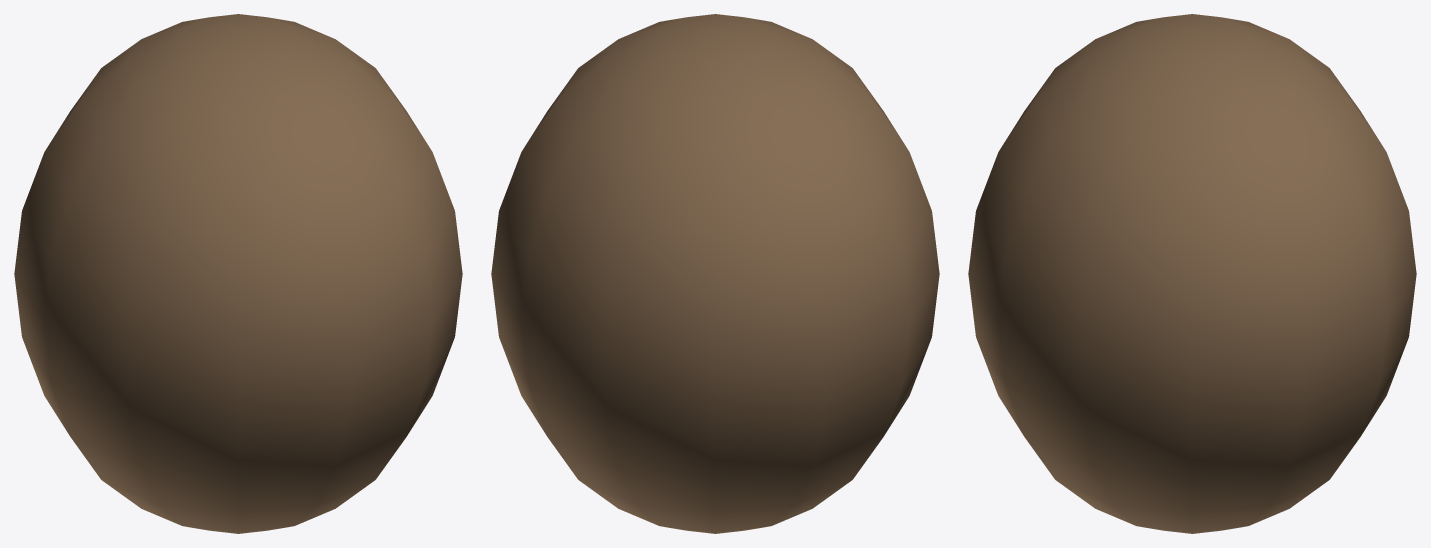
File: Lodinho_stage2.obj
3 views of the same model, side by side, from view 1: azimuth 30°, elevation 25°; view 2: azimuth 150°, elevation 25°; view 3: azimuth 270°, elevation 25° (orthographic).
Bounding box in the file's own units: 2 × 2.4 × 2.
